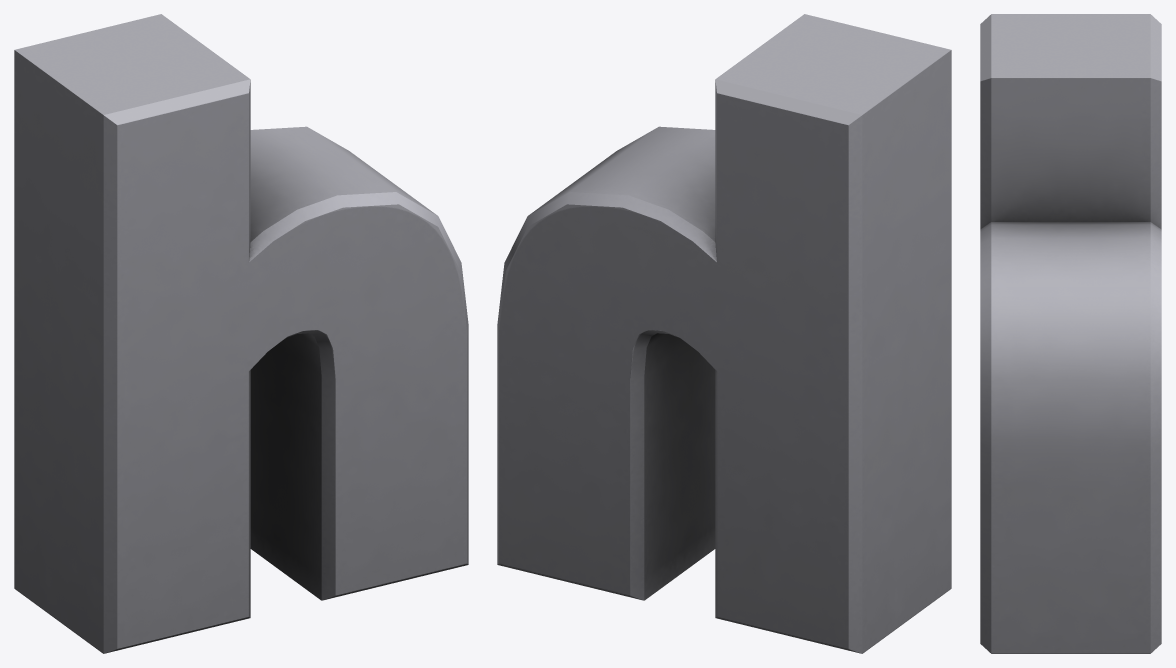
Rendered from h_lowc_static.fbx.
3 renders of one model, left to right at view 1: azimuth 30°, elevation 25°; view 2: azimuth 150°, elevation 25°; view 3: azimuth 270°, elevation 25°, orthographic. The views are drawn at different scales.
Visible parts, largest first — view 1: h_lowc_static; view 2: h_lowc_static; view 3: h_lowc_static.
Boxes of the visible parts, x1,y1,x2,y2 form: h_lowc_static: [14, 14, 468, 653]; h_lowc_static: [497, 14, 951, 653]; h_lowc_static: [980, 14, 1161, 653].
Size of the model in its own units: 68.56 by 96.69 by 33.
